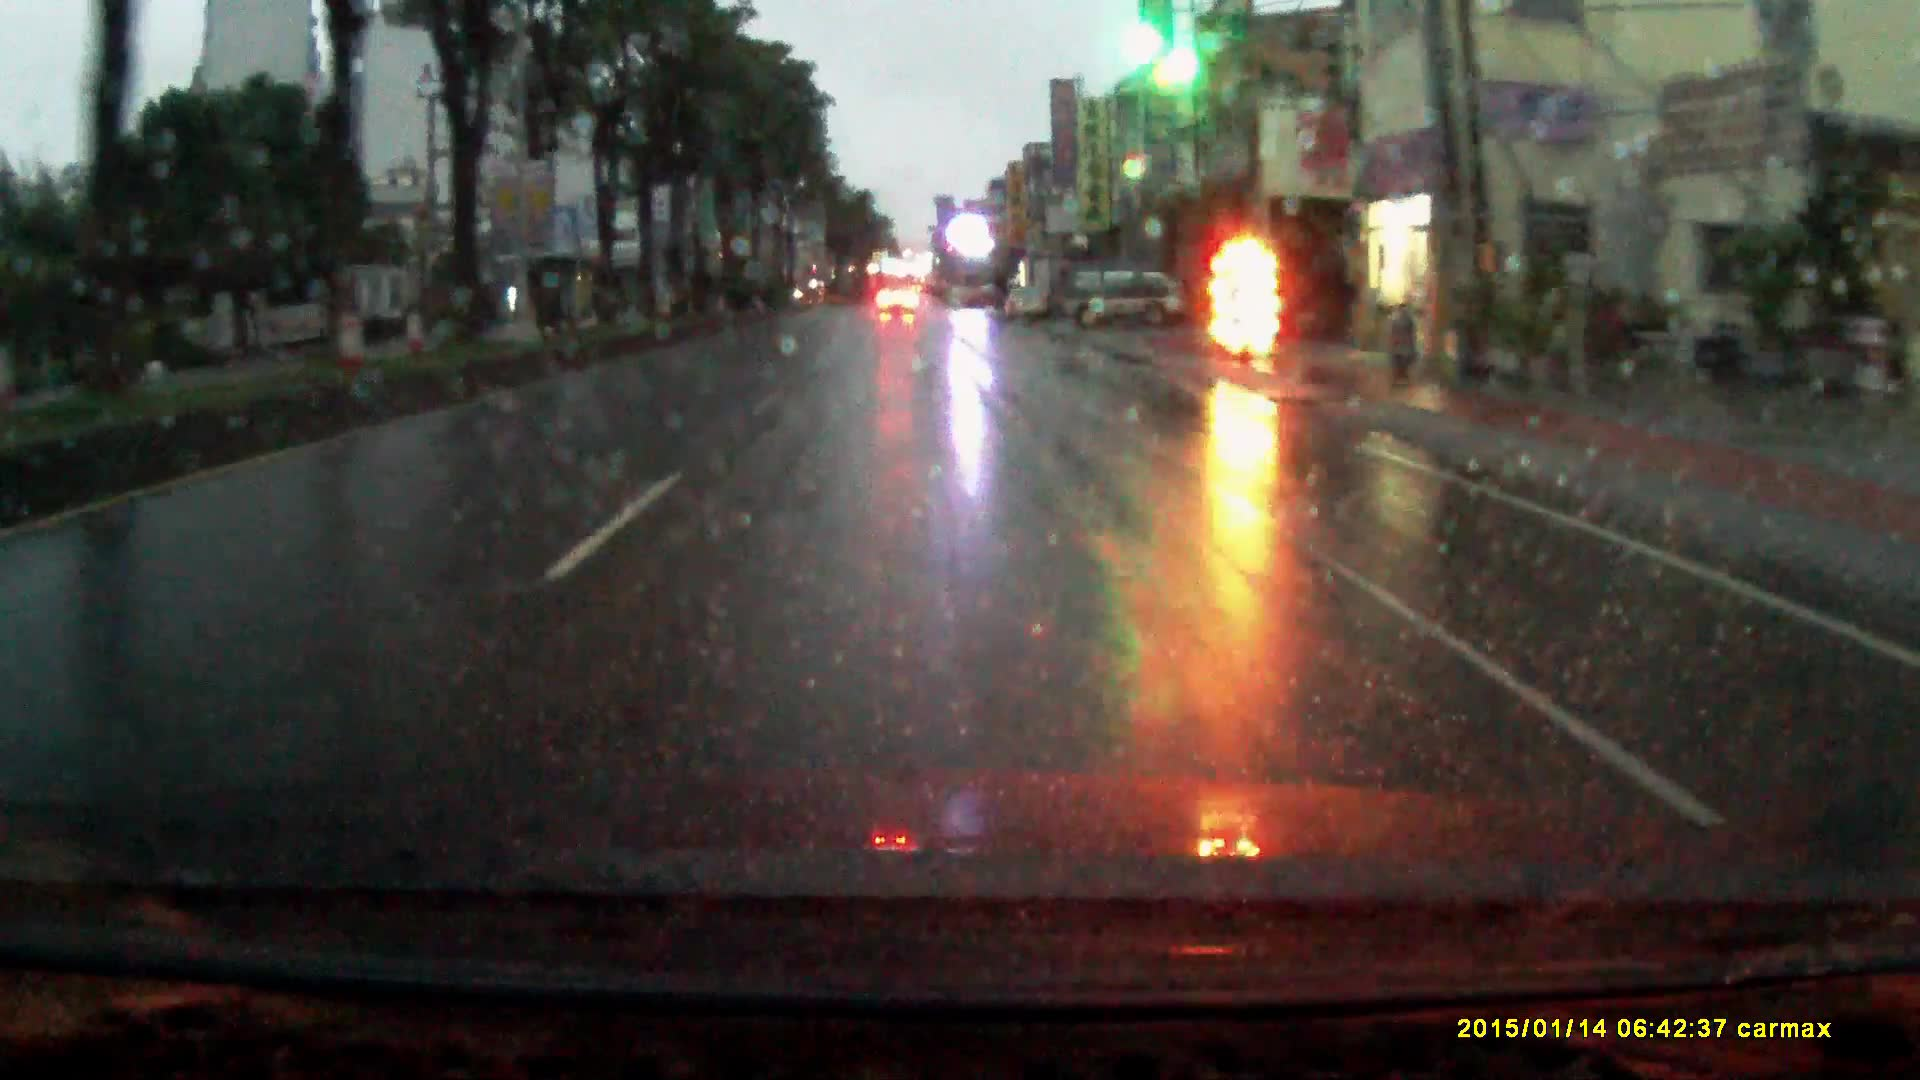vehicle: (1060, 264, 1193, 334), (1014, 255, 1077, 319), (1004, 287, 1051, 324), (878, 284, 920, 316)
